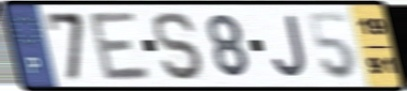5: (305, 8, 361, 83)
7: (44, 10, 87, 83)
8: (206, 13, 253, 80)
E: (86, 9, 155, 83)
J: (270, 13, 310, 80)
S: (151, 9, 208, 82)
